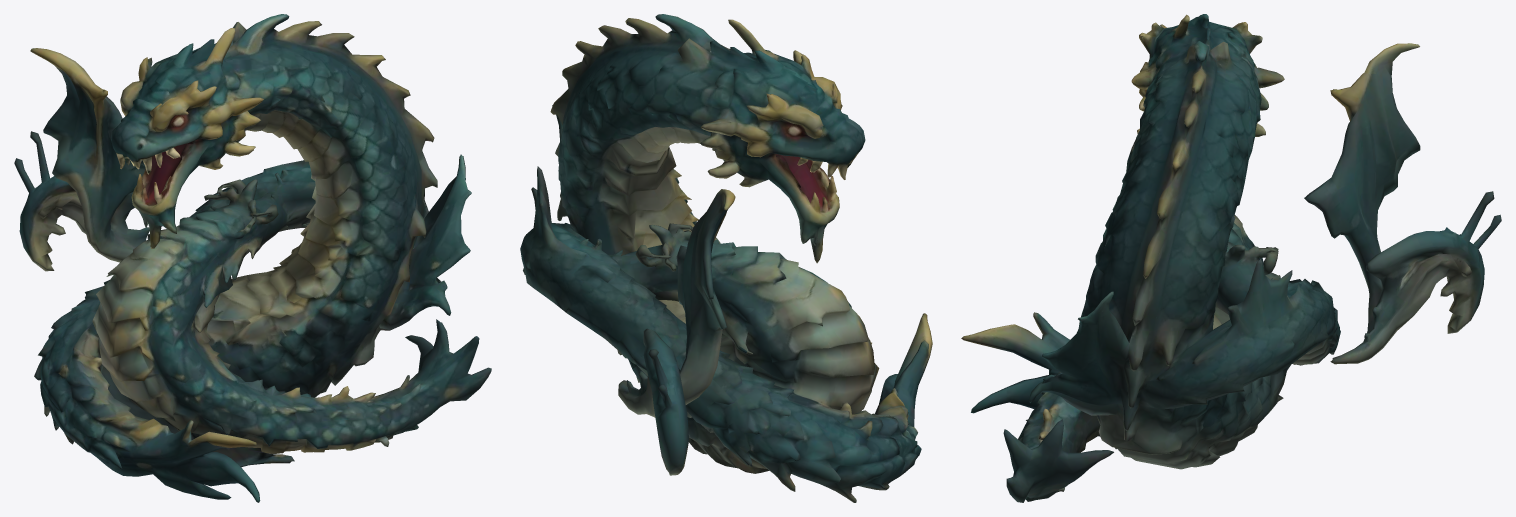
The model's file is leviata.glb.
The picture shows the model from 3 angles, left to right: view 1: azimuth 30°, elevation 25°; view 2: azimuth 150°, elevation 25°; view 3: azimuth 270°, elevation 25°; orthographic projection. The views are drawn at different scales.
Visible parts, largest first — view 1: tripo_node_5fe26514-8908-443e-89d5-6fbf74e8f768; view 2: tripo_node_5fe26514-8908-443e-89d5-6fbf74e8f768; view 3: tripo_node_5fe26514-8908-443e-89d5-6fbf74e8f768.
Boxes of the visible parts, box(x1,y1,x2,y2) form: tripo_node_5fe26514-8908-443e-89d5-6fbf74e8f768: box(14, 14, 491, 502); tripo_node_5fe26514-8908-443e-89d5-6fbf74e8f768: box(520, 14, 932, 502); tripo_node_5fe26514-8908-443e-89d5-6fbf74e8f768: box(961, 14, 1501, 502).
Bounding box in the file's own units: 0.8485 × 0.9136 × 0.9788.
Materials: 1 (1 with a texture image).
